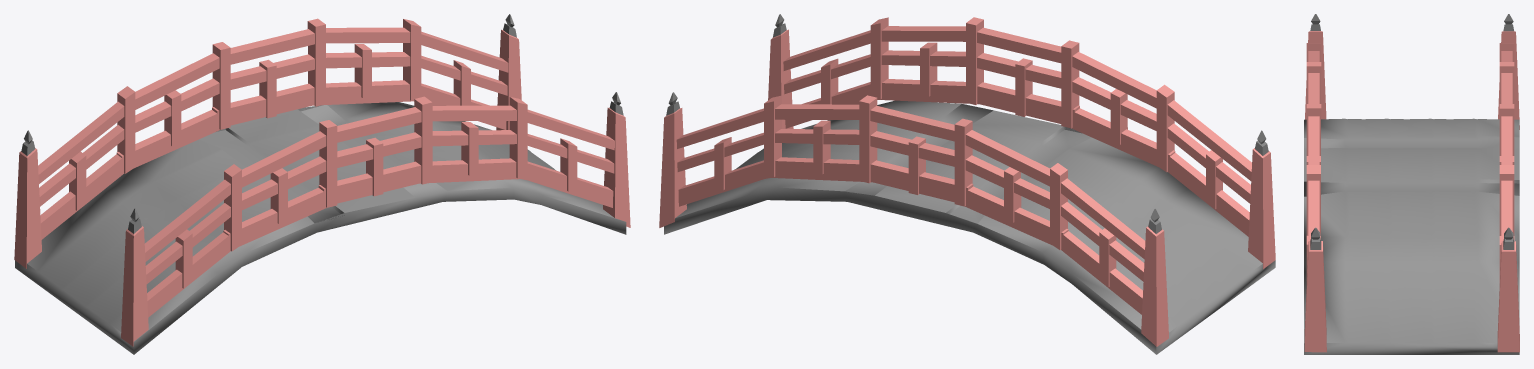
Rendered from Bridge2_Mod.fbx.
The picture shows the model from 3 angles, left to right: view 1: azimuth 30°, elevation 25°; view 2: azimuth 150°, elevation 25°; view 3: azimuth 270°, elevation 25°; orthographic projection. The views are drawn at different scales.
Parts seen in each view (by area): view 1: Cube_005_Material_003_0, Cube_005_Material_007_0, Cube_005_Material_002_0; view 2: Cube_005_Material_003_0, Cube_005_Material_007_0, Cube_005_Material_002_0; view 3: Cube_005_Material_007_0, Cube_005_Material_003_0, Cube_005_Material_002_0.
Boxes of the visible parts, bbox=[...] form: Cube_005_Material_003_0: bbox=[14, 18, 630, 346]; Cube_005_Material_007_0: bbox=[15, 102, 626, 354]; Cube_005_Material_002_0: bbox=[21, 14, 623, 233]; Cube_005_Material_003_0: bbox=[659, 17, 1275, 346]; Cube_005_Material_007_0: bbox=[664, 100, 1275, 354]; Cube_005_Material_002_0: bbox=[666, 14, 1268, 233]; Cube_005_Material_007_0: bbox=[1304, 118, 1519, 354]; Cube_005_Material_003_0: bbox=[1304, 31, 1519, 352]; Cube_005_Material_002_0: bbox=[1310, 14, 1514, 249].
Bounding box in the file's own units: 1364 × 468 × 566.
